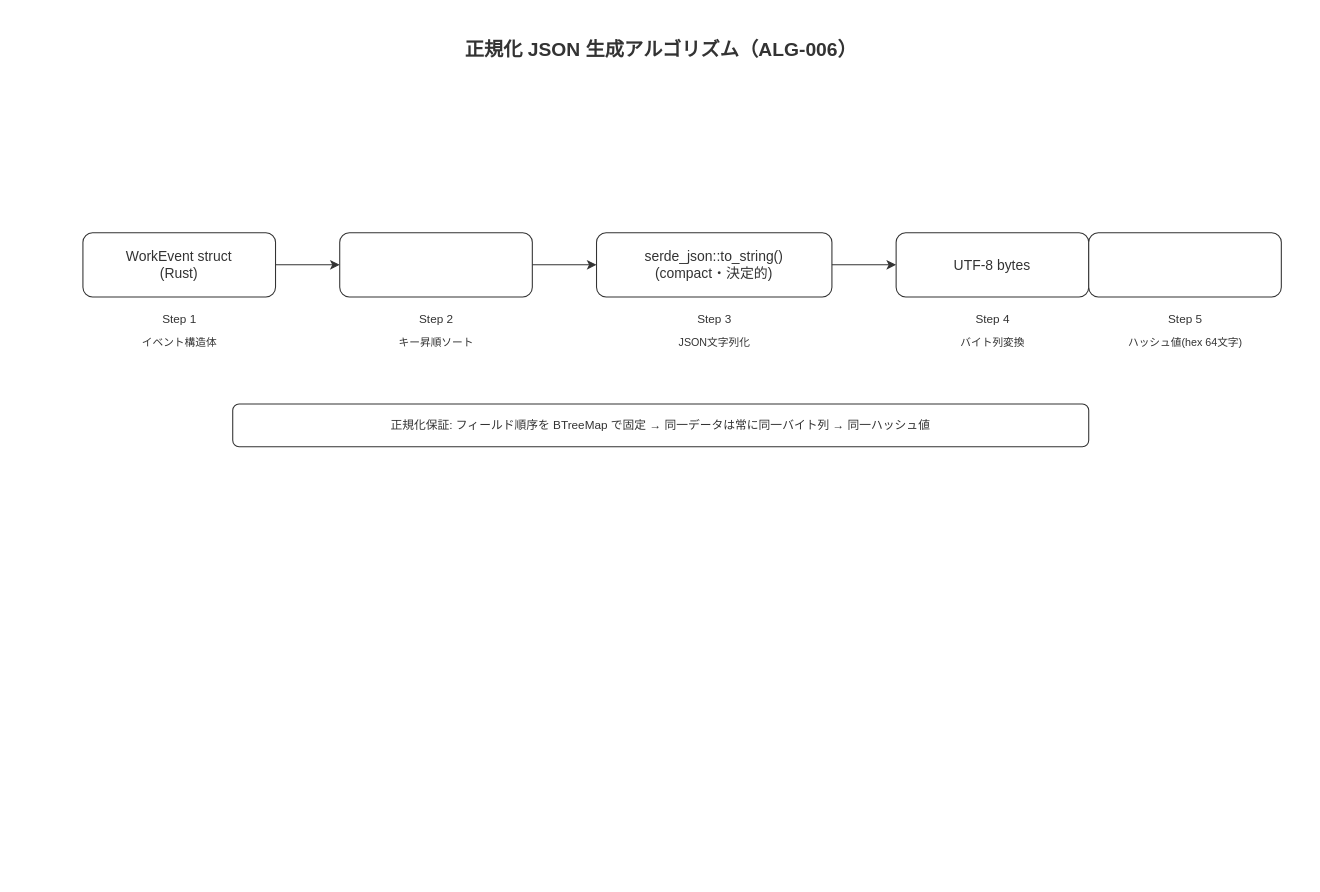
This 1320x892 diagram has some shape labels left out. Here are the shapes that lost their labels. From the top down, the centre of each, then its label:
At point (435, 264): "BTreeMap (キーソート)".
At point (1184, 264): "SHA-256 → content_hash CHAR(64)".
